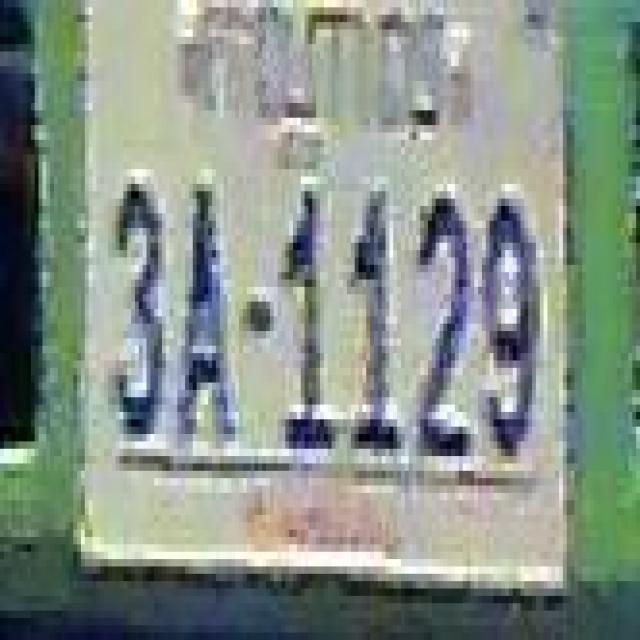Kandal: (189, 0, 444, 164)
